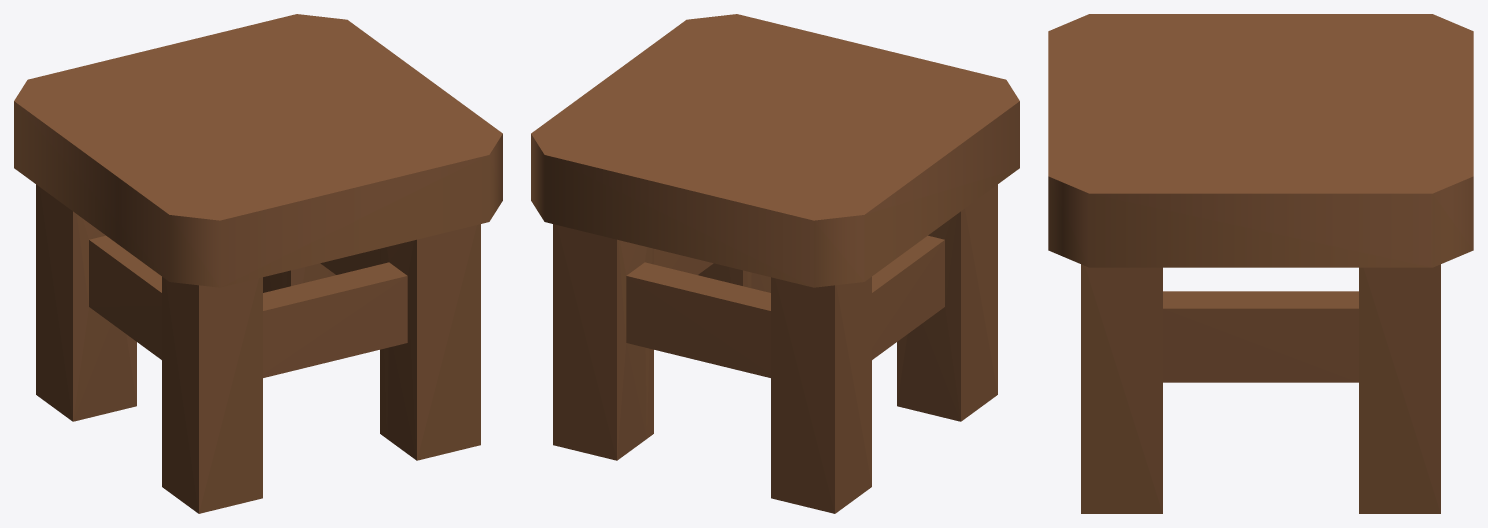
The model's file is kenney_town_stall_stool.glb.
3 views of the same model, side by side, from view 1: azimuth 30°, elevation 25°; view 2: azimuth 150°, elevation 25°; view 3: azimuth 270°, elevation 25° (orthographic). The views are drawn at different scales.
Parts seen in each view (by area): view 1: wood; view 2: wood; view 3: wood.
Part boxes in pixels (bbox=[...]): wood: bbox=[14, 14, 502, 513]; wood: bbox=[531, 14, 1019, 513]; wood: bbox=[1048, 14, 1473, 513].
Bounding box in the file's own units: 0.26 × 0.2255 × 0.26.
